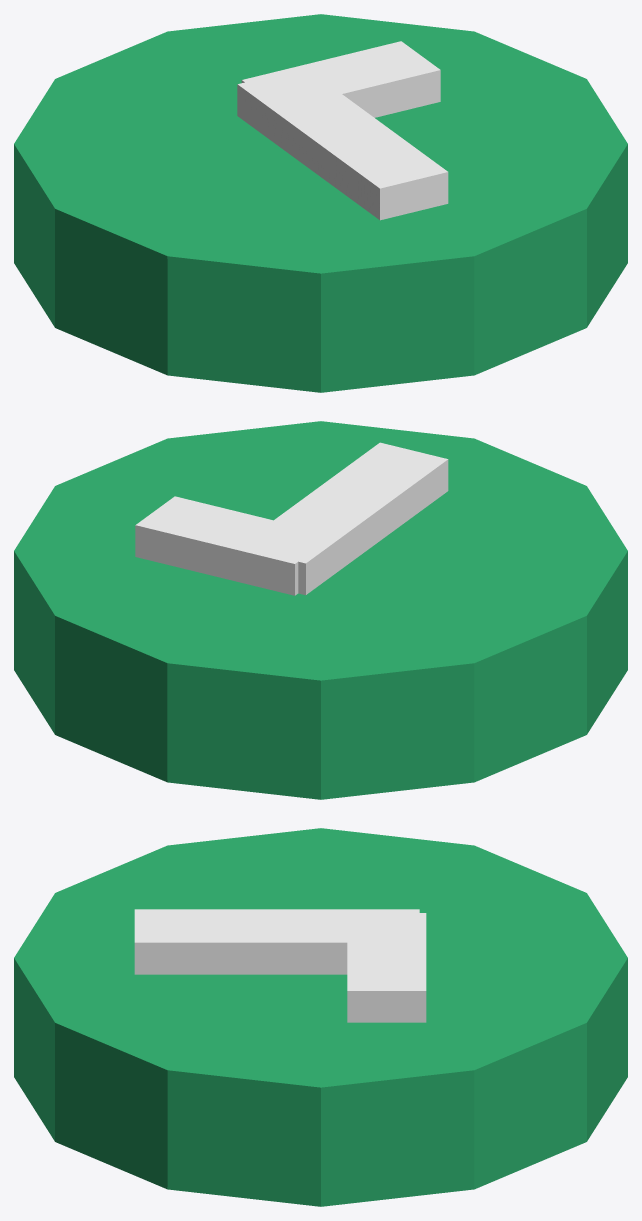
The model's file is Link_Port_Output_Connected_v001.fbx.
3 renders of one model, top to bottom at view 1: azimuth 30°, elevation 25°; view 2: azimuth 150°, elevation 25°; view 3: azimuth 270°, elevation 25°, orthographic.
Parts seen in each view (by area): view 1: PortDisc, PortDirection, PortDirection.001; view 2: PortDisc, PortDirection, PortDirection.001; view 3: PortDisc, PortDirection, PortDirection.001.
Part boxes in pixels (bbox=[...]): PortDisc: bbox=[14, 14, 627, 392]; PortDirection: bbox=[237, 67, 448, 220]; PortDirection.001: bbox=[241, 41, 440, 117]; PortDisc: bbox=[14, 421, 627, 799]; PortDirection: bbox=[238, 442, 448, 595]; PortDirection.001: bbox=[135, 496, 333, 595]; PortDisc: bbox=[14, 828, 627, 1206]; PortDirection: bbox=[134, 909, 419, 974]; PortDirection.001: bbox=[347, 913, 426, 1022].
Size of the model in its own units: 14 by 3.8 by 14.
